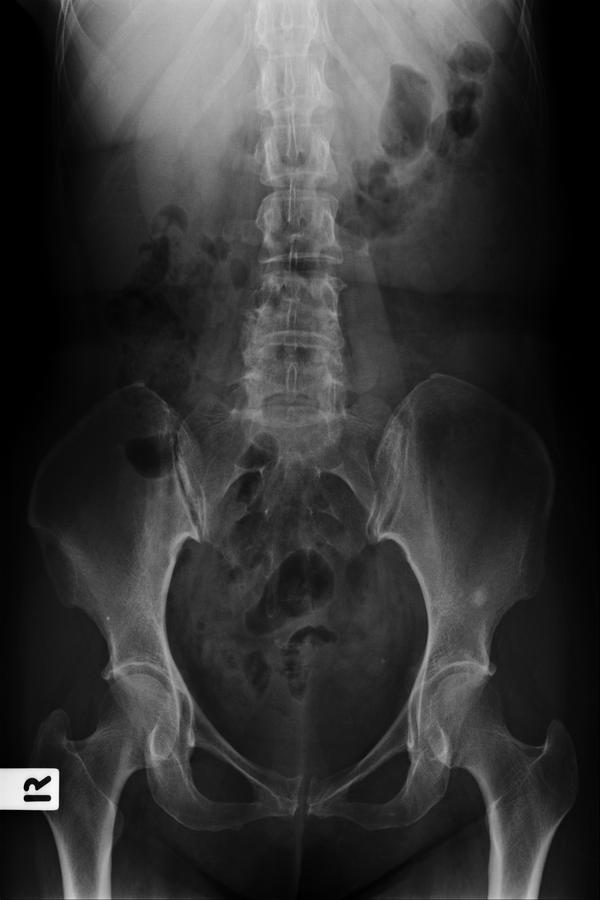lumbar scoliosis: (231, 68, 352, 458)
